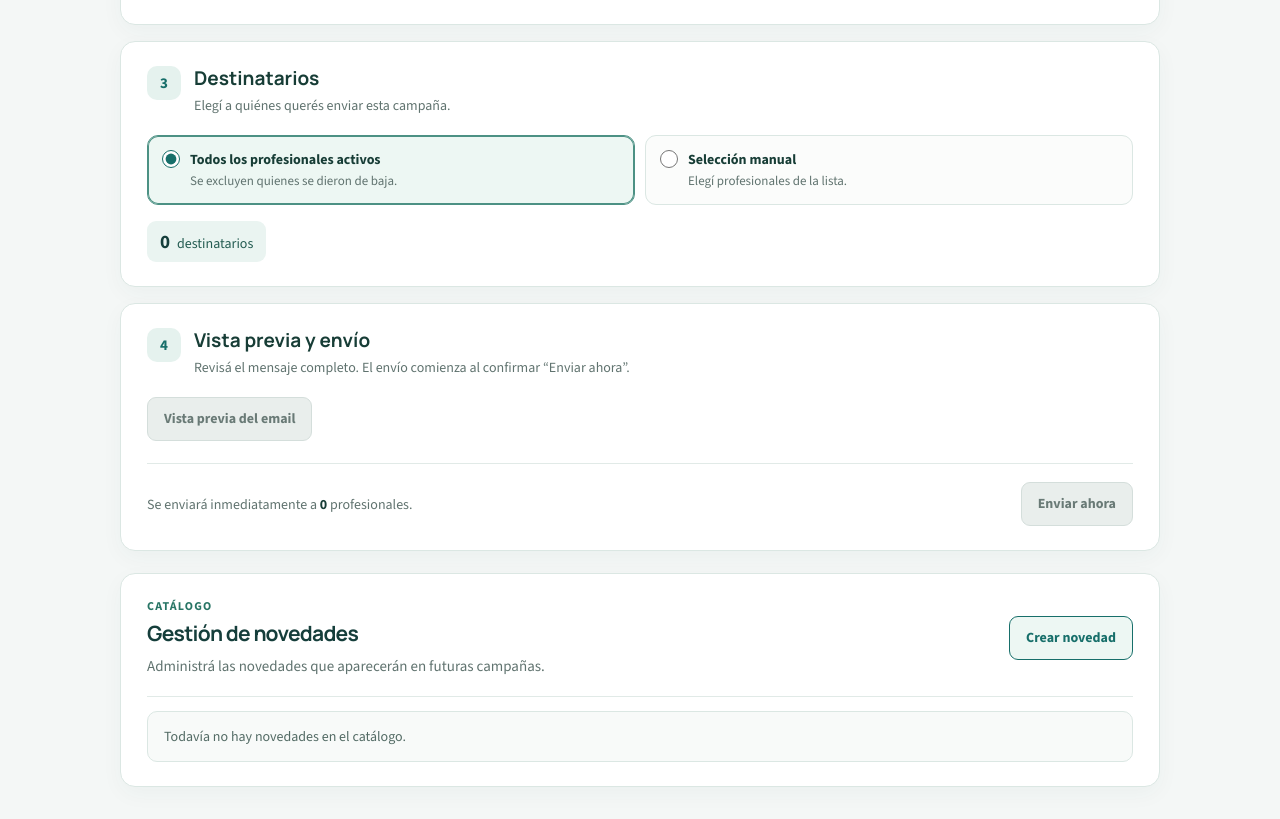
Scenario: CampaniasAdmin › mantiene el diálogo y los campos cuando falla el guardado
(page scrolled)
Click the button "Crear novedad" at (1071, 638), box [1009,616,1133,660]
(page scrolled)
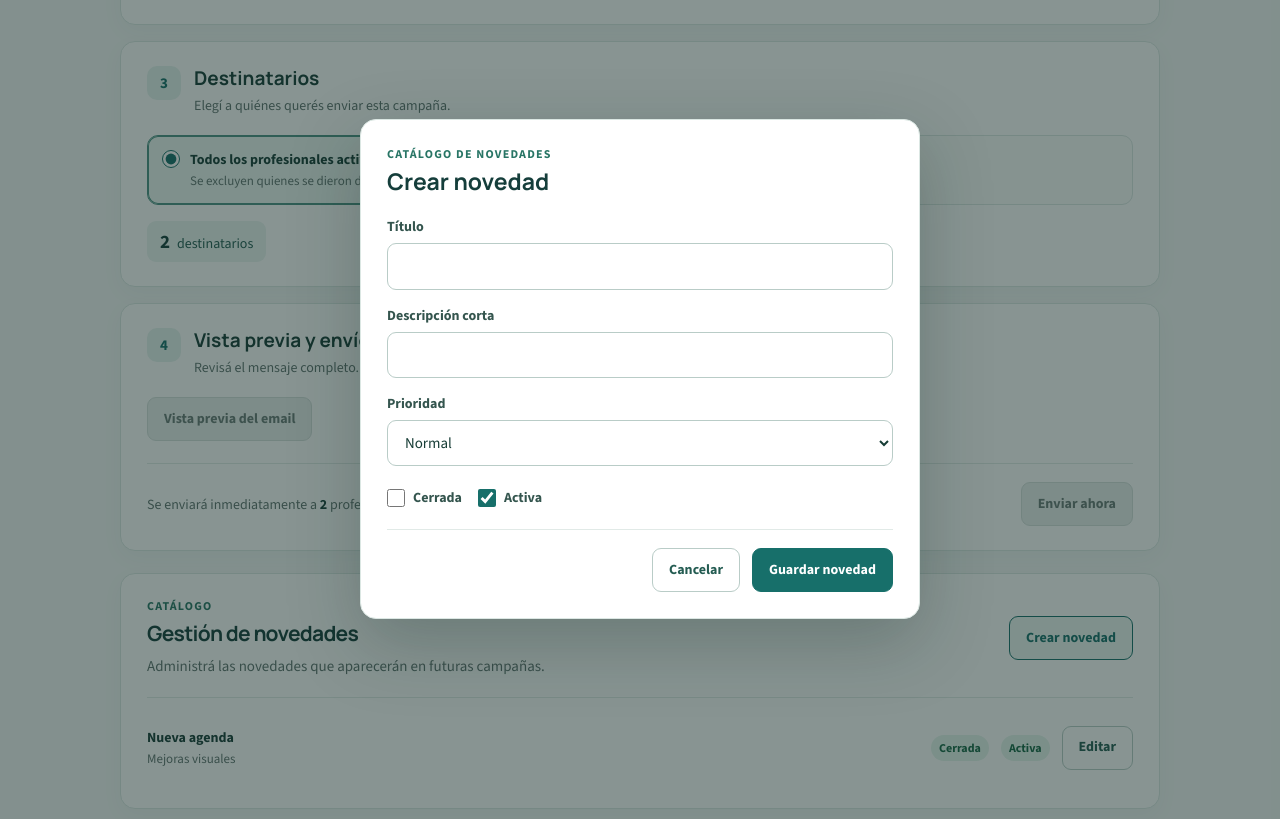
Type "Agenda renovada" into the field labelled "Título" at (640, 267), box [387,243,893,290]
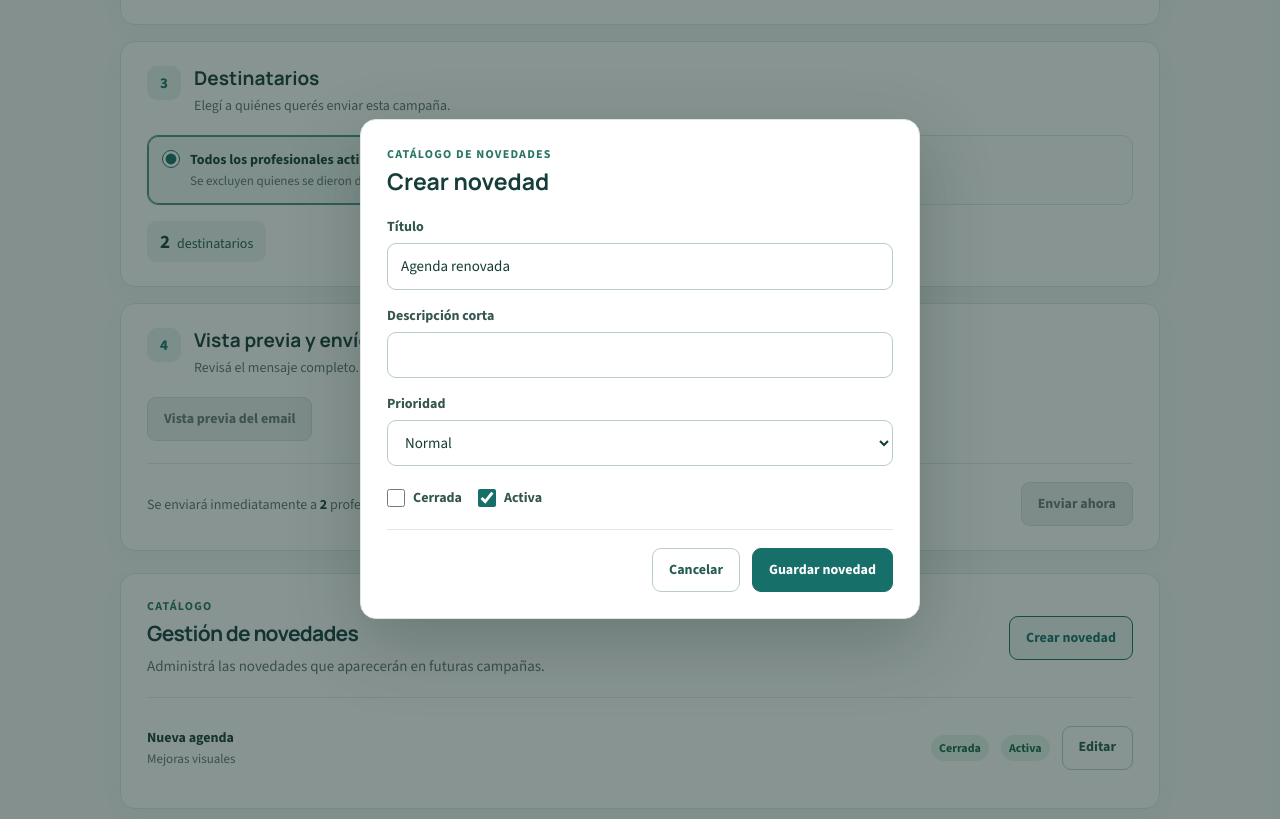
Type "Nueva vista semanal" into the field labelled "Descripción corta" at (640, 355), box [387,332,893,378]
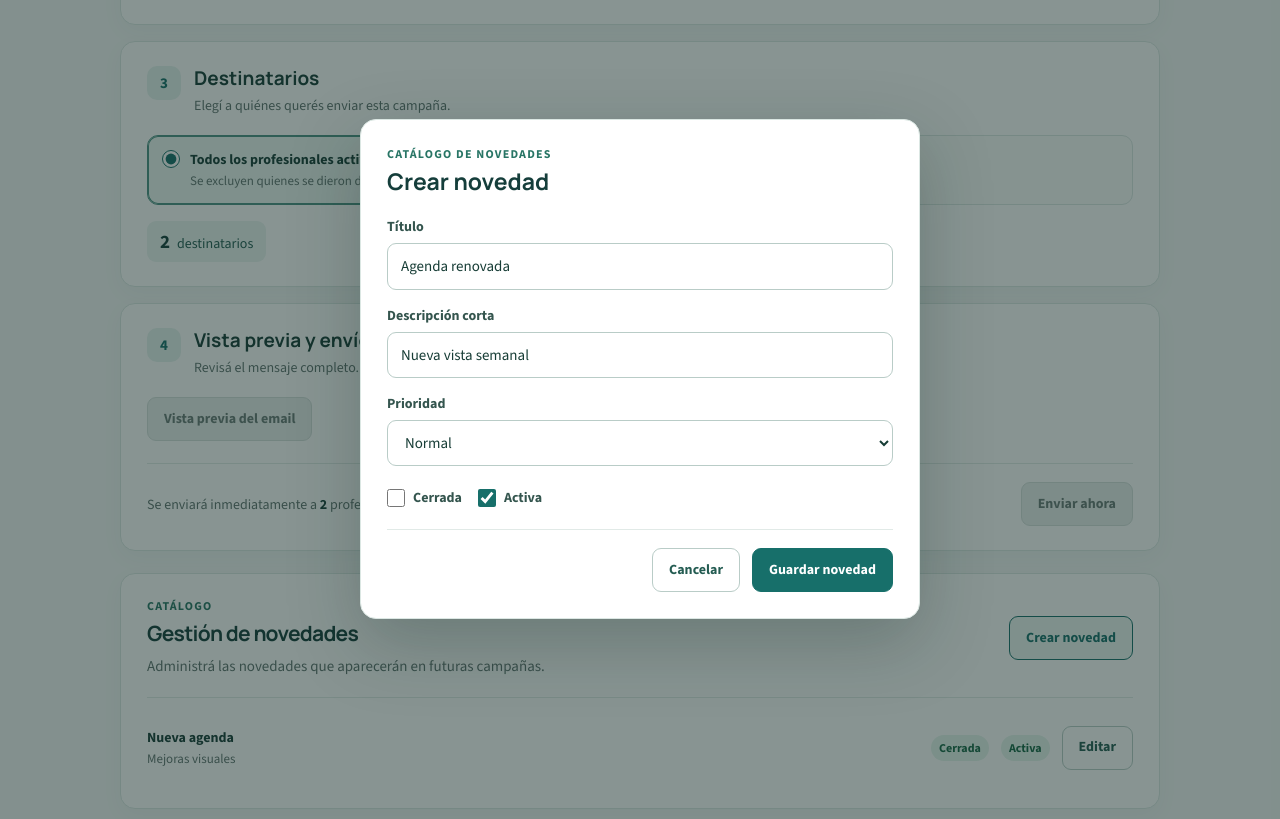
Click the button "Guardar novedad" at (822, 570), box [752,548,893,592]
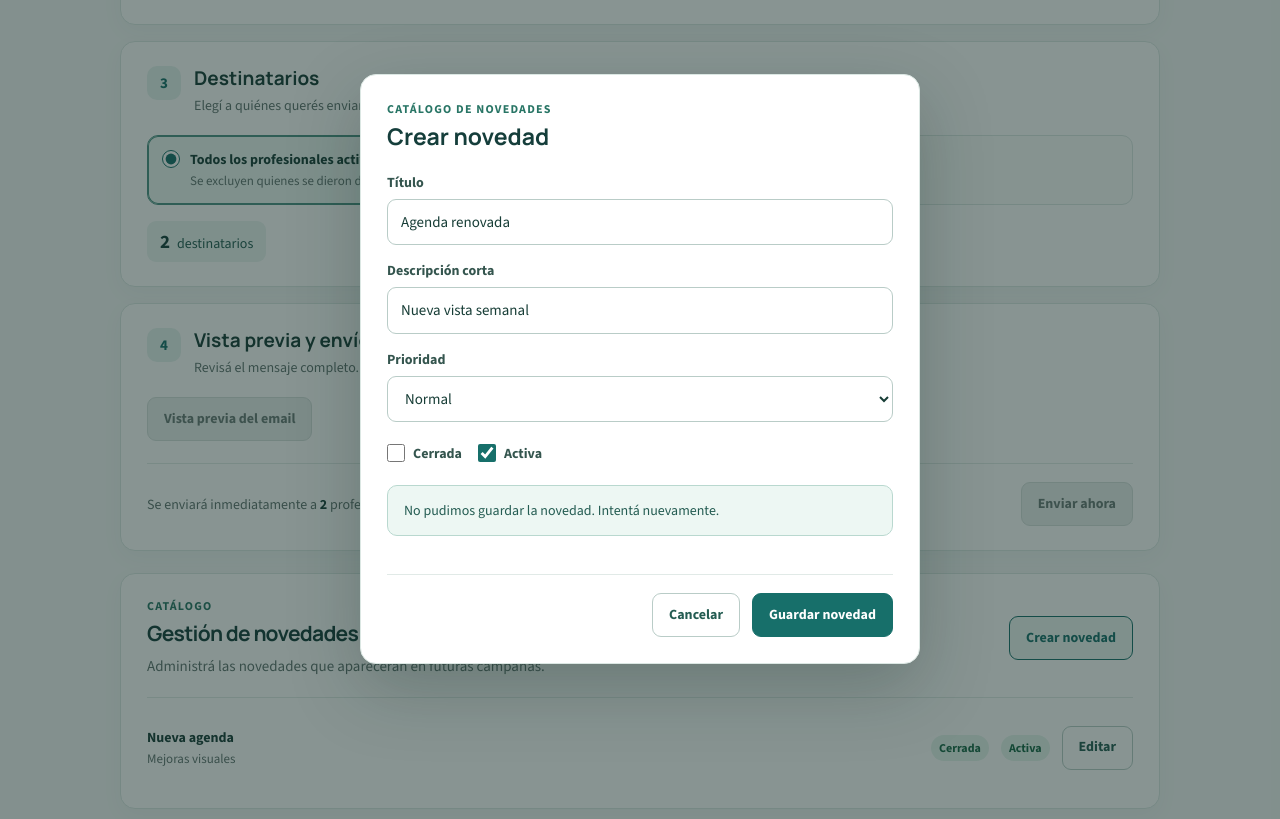
Expected: the dialog is shown, [360,74,920,664]
Expected: the message reads "No pudimos guardar la novedad. Intentá nuevamente.", [404,501,719,520]
